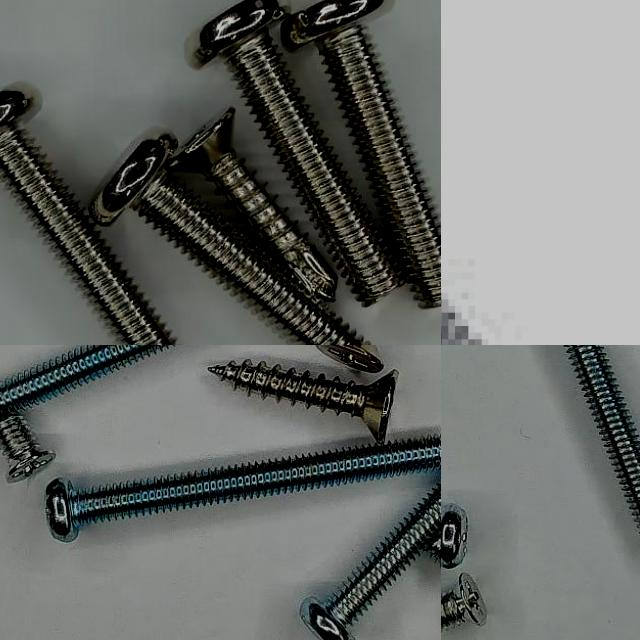Screw: (196, 0, 403, 305), (90, 135, 368, 345), (281, 0, 441, 308), (0, 89, 178, 345), (44, 435, 441, 542), (166, 107, 337, 303), (300, 482, 441, 640), (207, 360, 398, 443), (565, 345, 640, 529), (0, 345, 174, 419), (0, 416, 54, 483), (441, 575, 486, 631)
